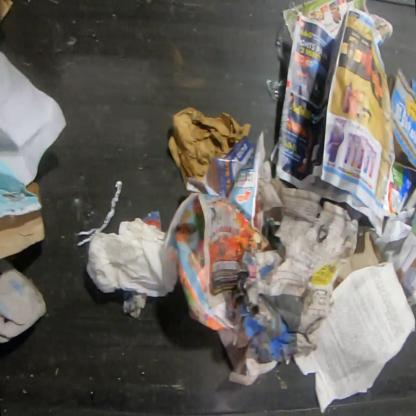cardboard: (0, 156, 45, 262), (333, 233, 386, 292), (386, 68, 416, 169), (381, 159, 415, 216)
soft_plastic: (274, 11, 297, 72), (265, 80, 286, 106)
